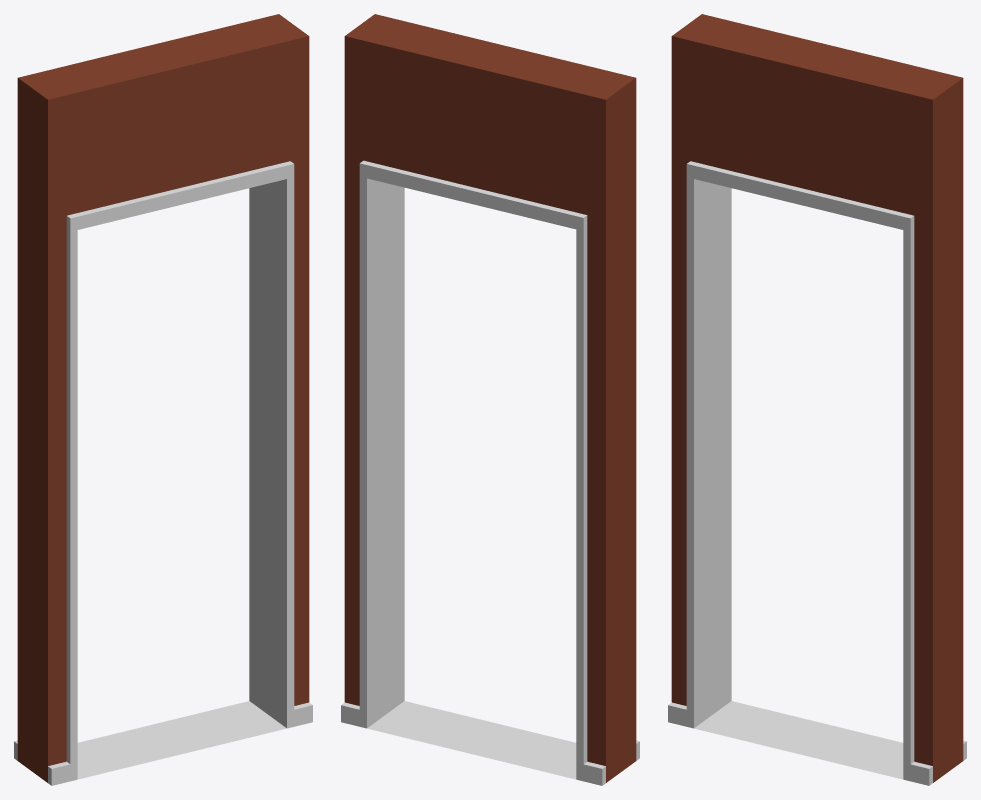
File: Entrance.fbx
The picture shows the model from 3 angles, left to right: view 1: azimuth 30°, elevation 25°; view 2: azimuth 150°, elevation 25°; view 3: azimuth 330°, elevation 25°; orthographic projection.
Parts seen in each view (by area): view 1: Wall007; view 2: Wall007; view 3: Wall007.
Part boxes in pixels (<box>): Wall007: <box>14,14,312,785</box>; Wall007: <box>341,14,639,785</box>; Wall007: <box>668,14,966,785</box>.
Bounding box in the file's own units: 1 × 2.5 × 0.25.
